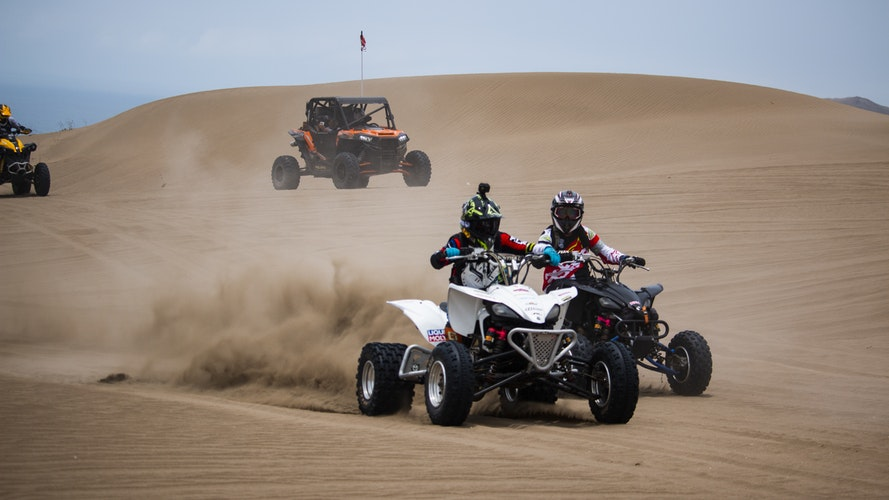helmet: (458, 196, 516, 247), (549, 190, 590, 227)
